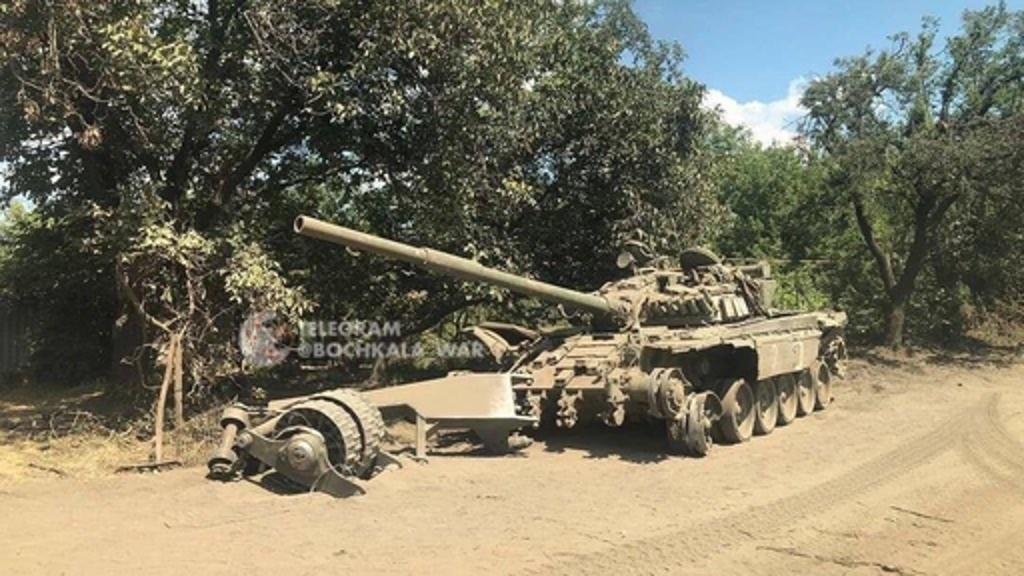TANK: (290, 204, 854, 462)
